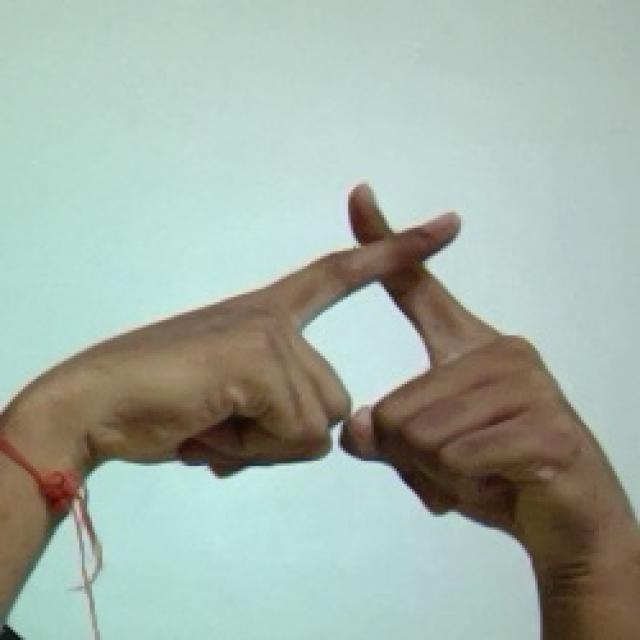Alphabet-X: (114, 160, 622, 600)
